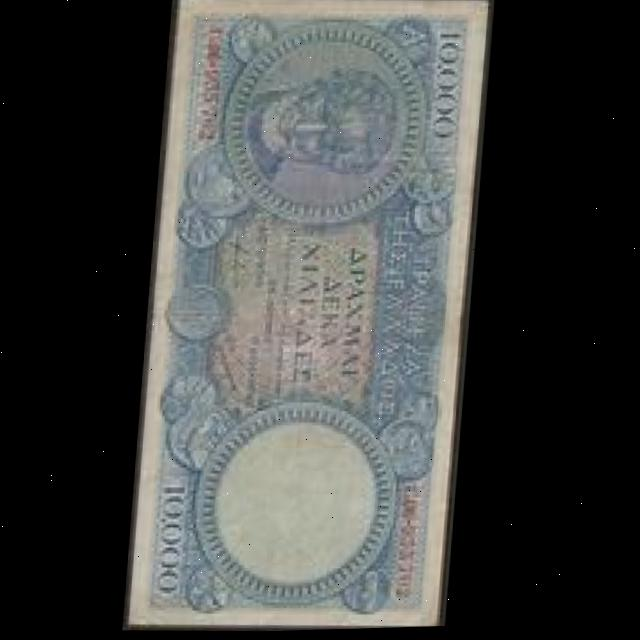banknote: (134, 0, 490, 635), (149, 476, 198, 604), (420, 27, 468, 156)
